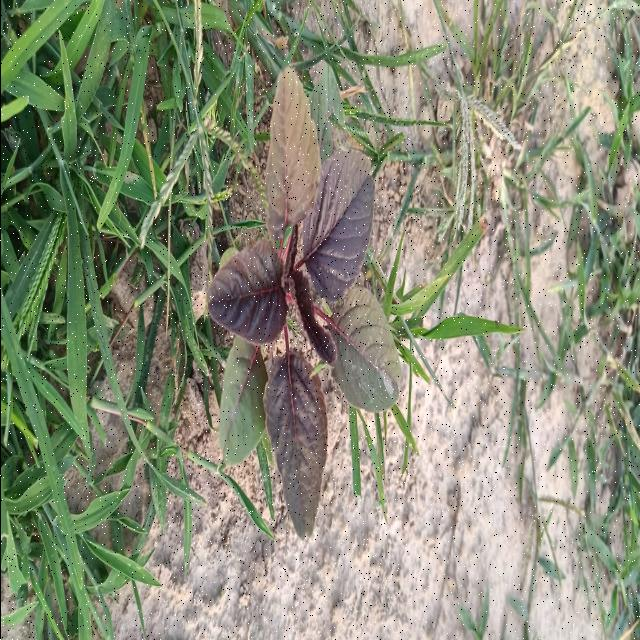plant: (207, 68, 399, 540)
